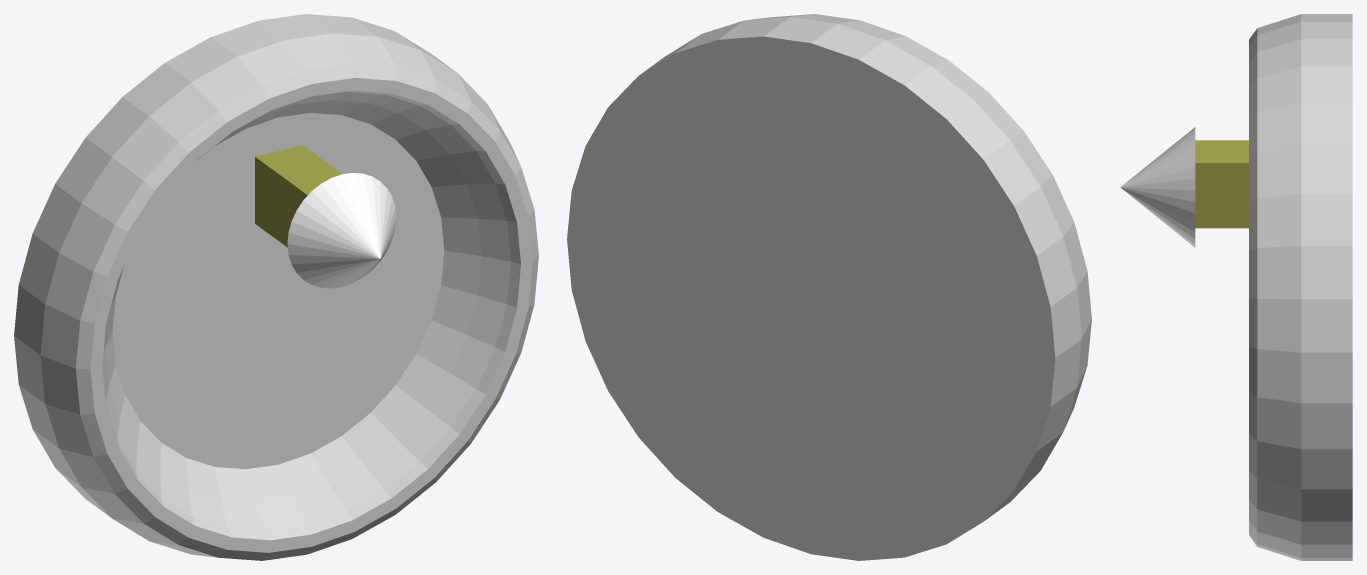
The model's file is castle.gltf.
3 renders of one model, left to right at view 1: azimuth 30°, elevation 25°; view 2: azimuth 150°, elevation 25°; view 3: azimuth 270°, elevation 25°, orthographic. The views are drawn at different scales.
Visible parts, largest first — view 1: Стены, Крыша1, Башня1; view 2: Стены; view 3: Стены, Башня1, Крыша1.
Boxes of the visible parts, <box> form: Стены: <box>14,14,538,560</box>; Крыша1: <box>287,173,396,288</box>; Башня1: <box>255,145,342,247</box>; Стены: <box>567,14,1091,560</box>; Стены: <box>1249,14,1352,560</box>; Башня1: <box>1195,140,1248,228</box>; Крыша1: <box>1120,127,1195,247</box>.
Size of the model in its own units: 2 by 2 by 0.8496.
